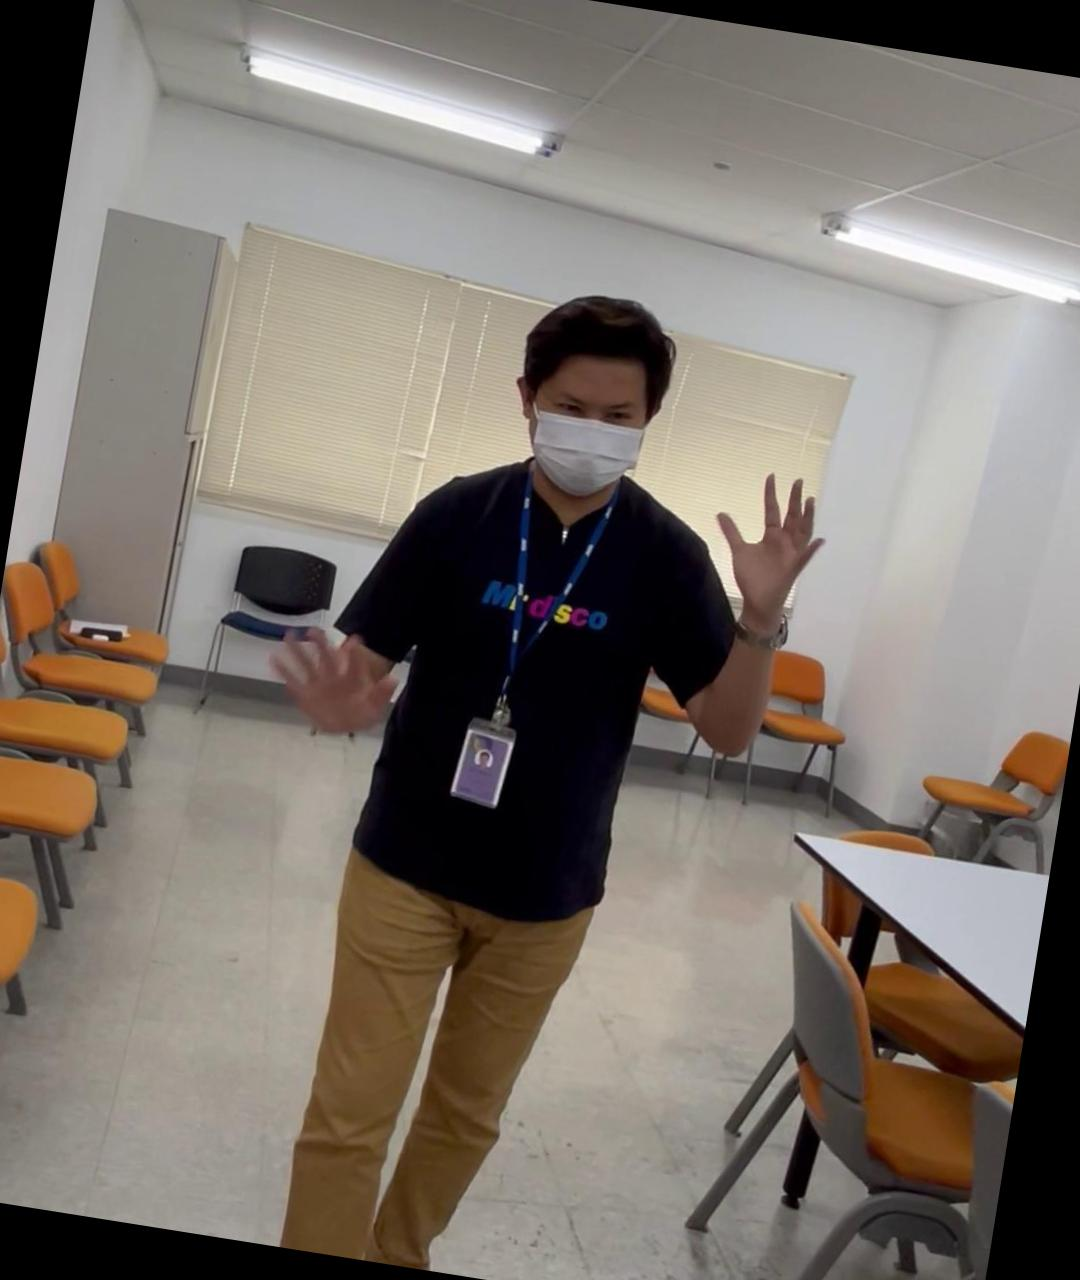No-gloves: (697, 454, 839, 637), (258, 604, 411, 749)
